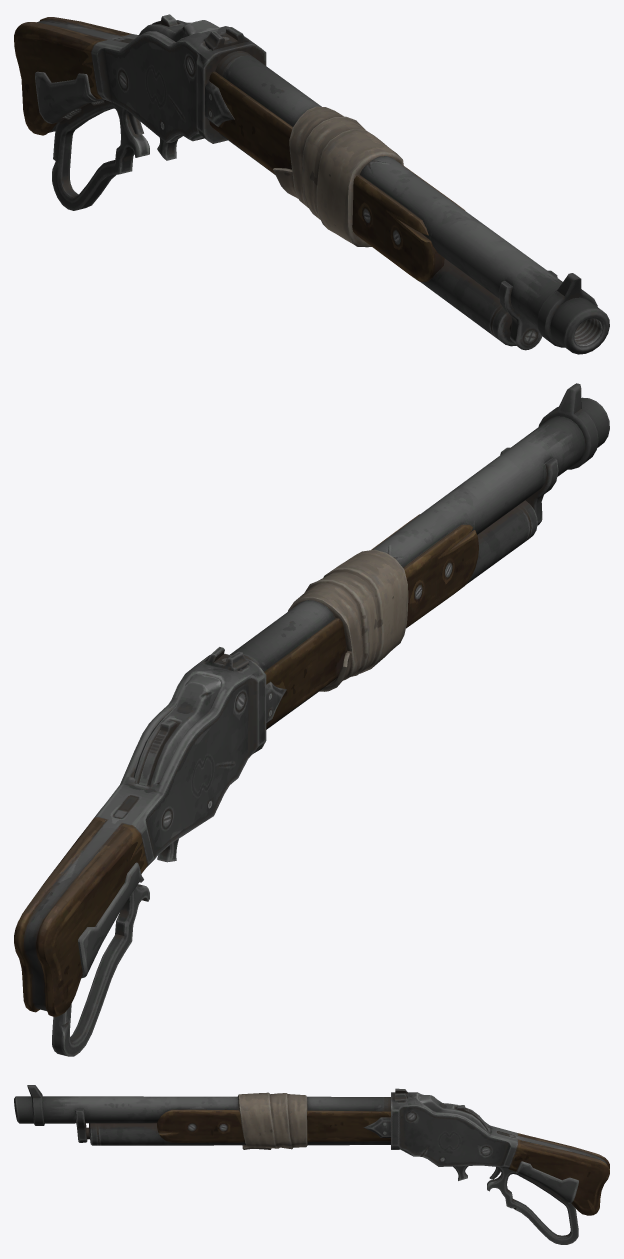
The picture shows the model from 3 angles, top to bottom: view 1: azimuth 30°, elevation 25°; view 2: azimuth 150°, elevation 25°; view 3: azimuth 270°, elevation 25°; orthographic projection. The views are drawn at different scales.
Visible parts, largest first — view 1: Object_MI_Sawed_Shotgun_0; view 2: Object_MI_Sawed_Shotgun_0; view 3: Object_MI_Sawed_Shotgun_0.
Boxes of the visible parts, left/top/right/bottom form: Object_MI_Sawed_Shotgun_0: left=14, top=14, right=609, bottom=354; Object_MI_Sawed_Shotgun_0: left=14, top=383, right=609, bottom=1056; Object_MI_Sawed_Shotgun_0: left=14, top=1085, right=609, bottom=1244.
Size of the model in its own units: 0.0521 by 0.2134 by 0.7299.
1 material, 1 textured.
